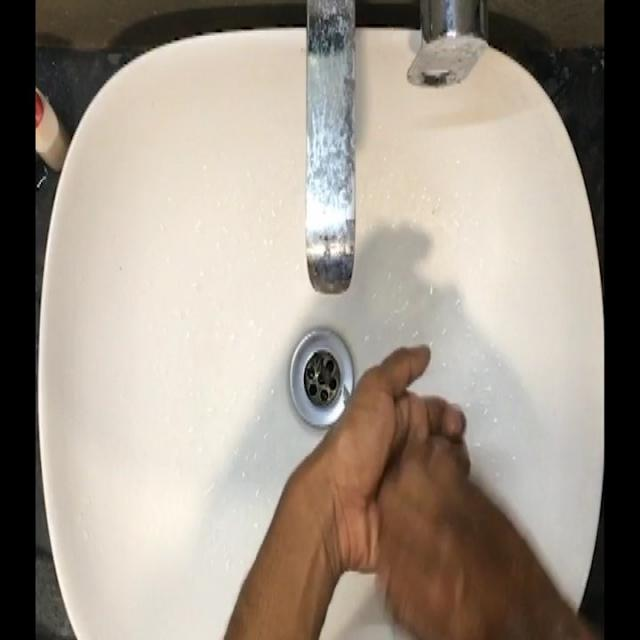step_4: (322, 332, 514, 630)
